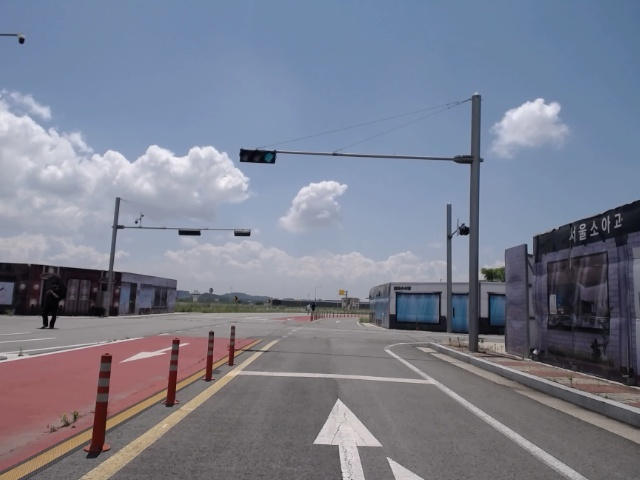green_3: (241, 149, 275, 163)
